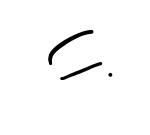eqv: (48, 30, 102, 80)
